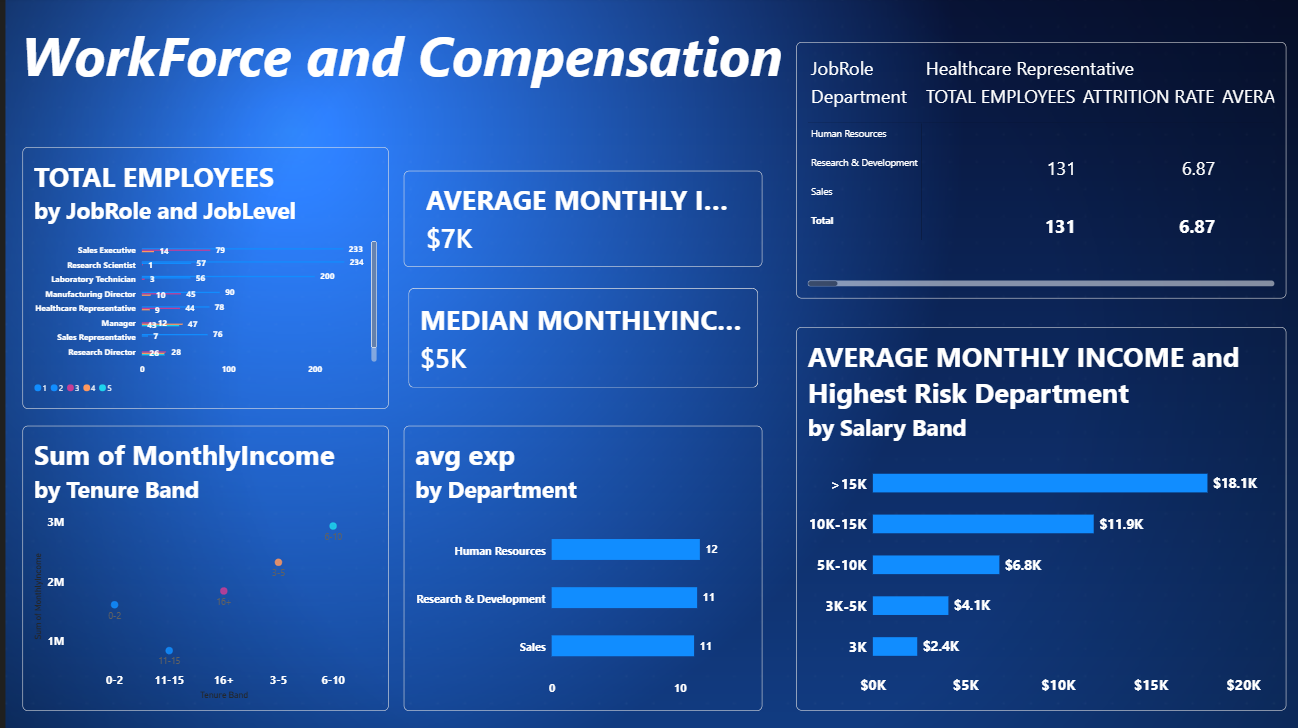

This screenshot's page, from the dashboard's own definition file:
{"tool":"powerbi","page":{"name":"WORKFORCE AND COMPENSATION","canvas":[1920,1080],"ordinal":3},"visuals":[{"type":"cardVisual","fields":{"Data":["KPICalculations.AVERAGE MONTHLY INCOME"]},"box":[594.5,255.8,528.2,141.7],"z":0},{"type":"scatterChart","fields":{"X":["HR.Tenure Band"],"Y":["Sum(HR.MonthlyIncome)"]},"box":[33.1,631.3,538.9,419.8],"z":1000},{"type":"cardVisual","fields":{"Data":["KPICalculations.MEDIAN MONTHLYINCOME"]},"box":[585.3,414.1,547.5,177.5],"z":2000},{"type":"clusteredBarChart","fields":{"Category":["HR.JobRole"],"Series":["HR.JobLevel"],"Y":["KPICalculations.TOTAL EMPLOYEES"]},"box":[32.5,220.7,538.9,385.2],"z":3000},{"type":"clusteredBarChart","fields":{"Category":["HR.Department"],"Y":["KPICalculations.avg exp"]},"box":[594.5,631.3,528.2,419.6],"z":4000},{"type":"pivotTable","fields":{"Columns":["HR.JobRole"],"Rows":["HR.Department"],"Values":["KPICalculations.TOTAL EMPLOYEES","KPICalculations.ATTRITION RATE","KPICalculations.AVERAGE MONTHLY INCOME"]},"box":[1172.4,66.3,721.5,377.3],"z":5000},{"type":"clusteredBarChart","fields":{"Category":["HR.Salary Band","HR.Department"],"Y":["KPICalculations.AVERAGE MONTHLY INCOME"]},"box":[1172.4,485.9,721.5,565],"z":7000},{"type":"textbox","box":[31.3,29.4,1157.7,147.2],"z":7001}]}

Visuals, with their boxes in screenshot pixels (x1, y1, x2, y2), scaled from the page's 1920x1080 canvas onto the 1298x728 screenshot:
cardVisual - KPICalculations.AVERAGE MONTHLY INCOME: [402,172,759,268]
scatterChart - HR.Tenure Band x Sum(HR.MonthlyIncome): [22,426,387,709]
cardVisual - KPICalculations.MEDIAN MONTHLYINCOME: [396,279,766,399]
clusteredBarChart - HR.JobRole x HR.JobLevel: [22,149,386,408]
clusteredBarChart - HR.Department x KPICalculations.avg exp: [402,426,759,708]
pivotTable - HR.JobRole x HR.Department: [793,45,1280,299]
clusteredBarChart - HR.Salary Band x HR.Department: [793,328,1280,708]
textbox: [21,20,804,119]
